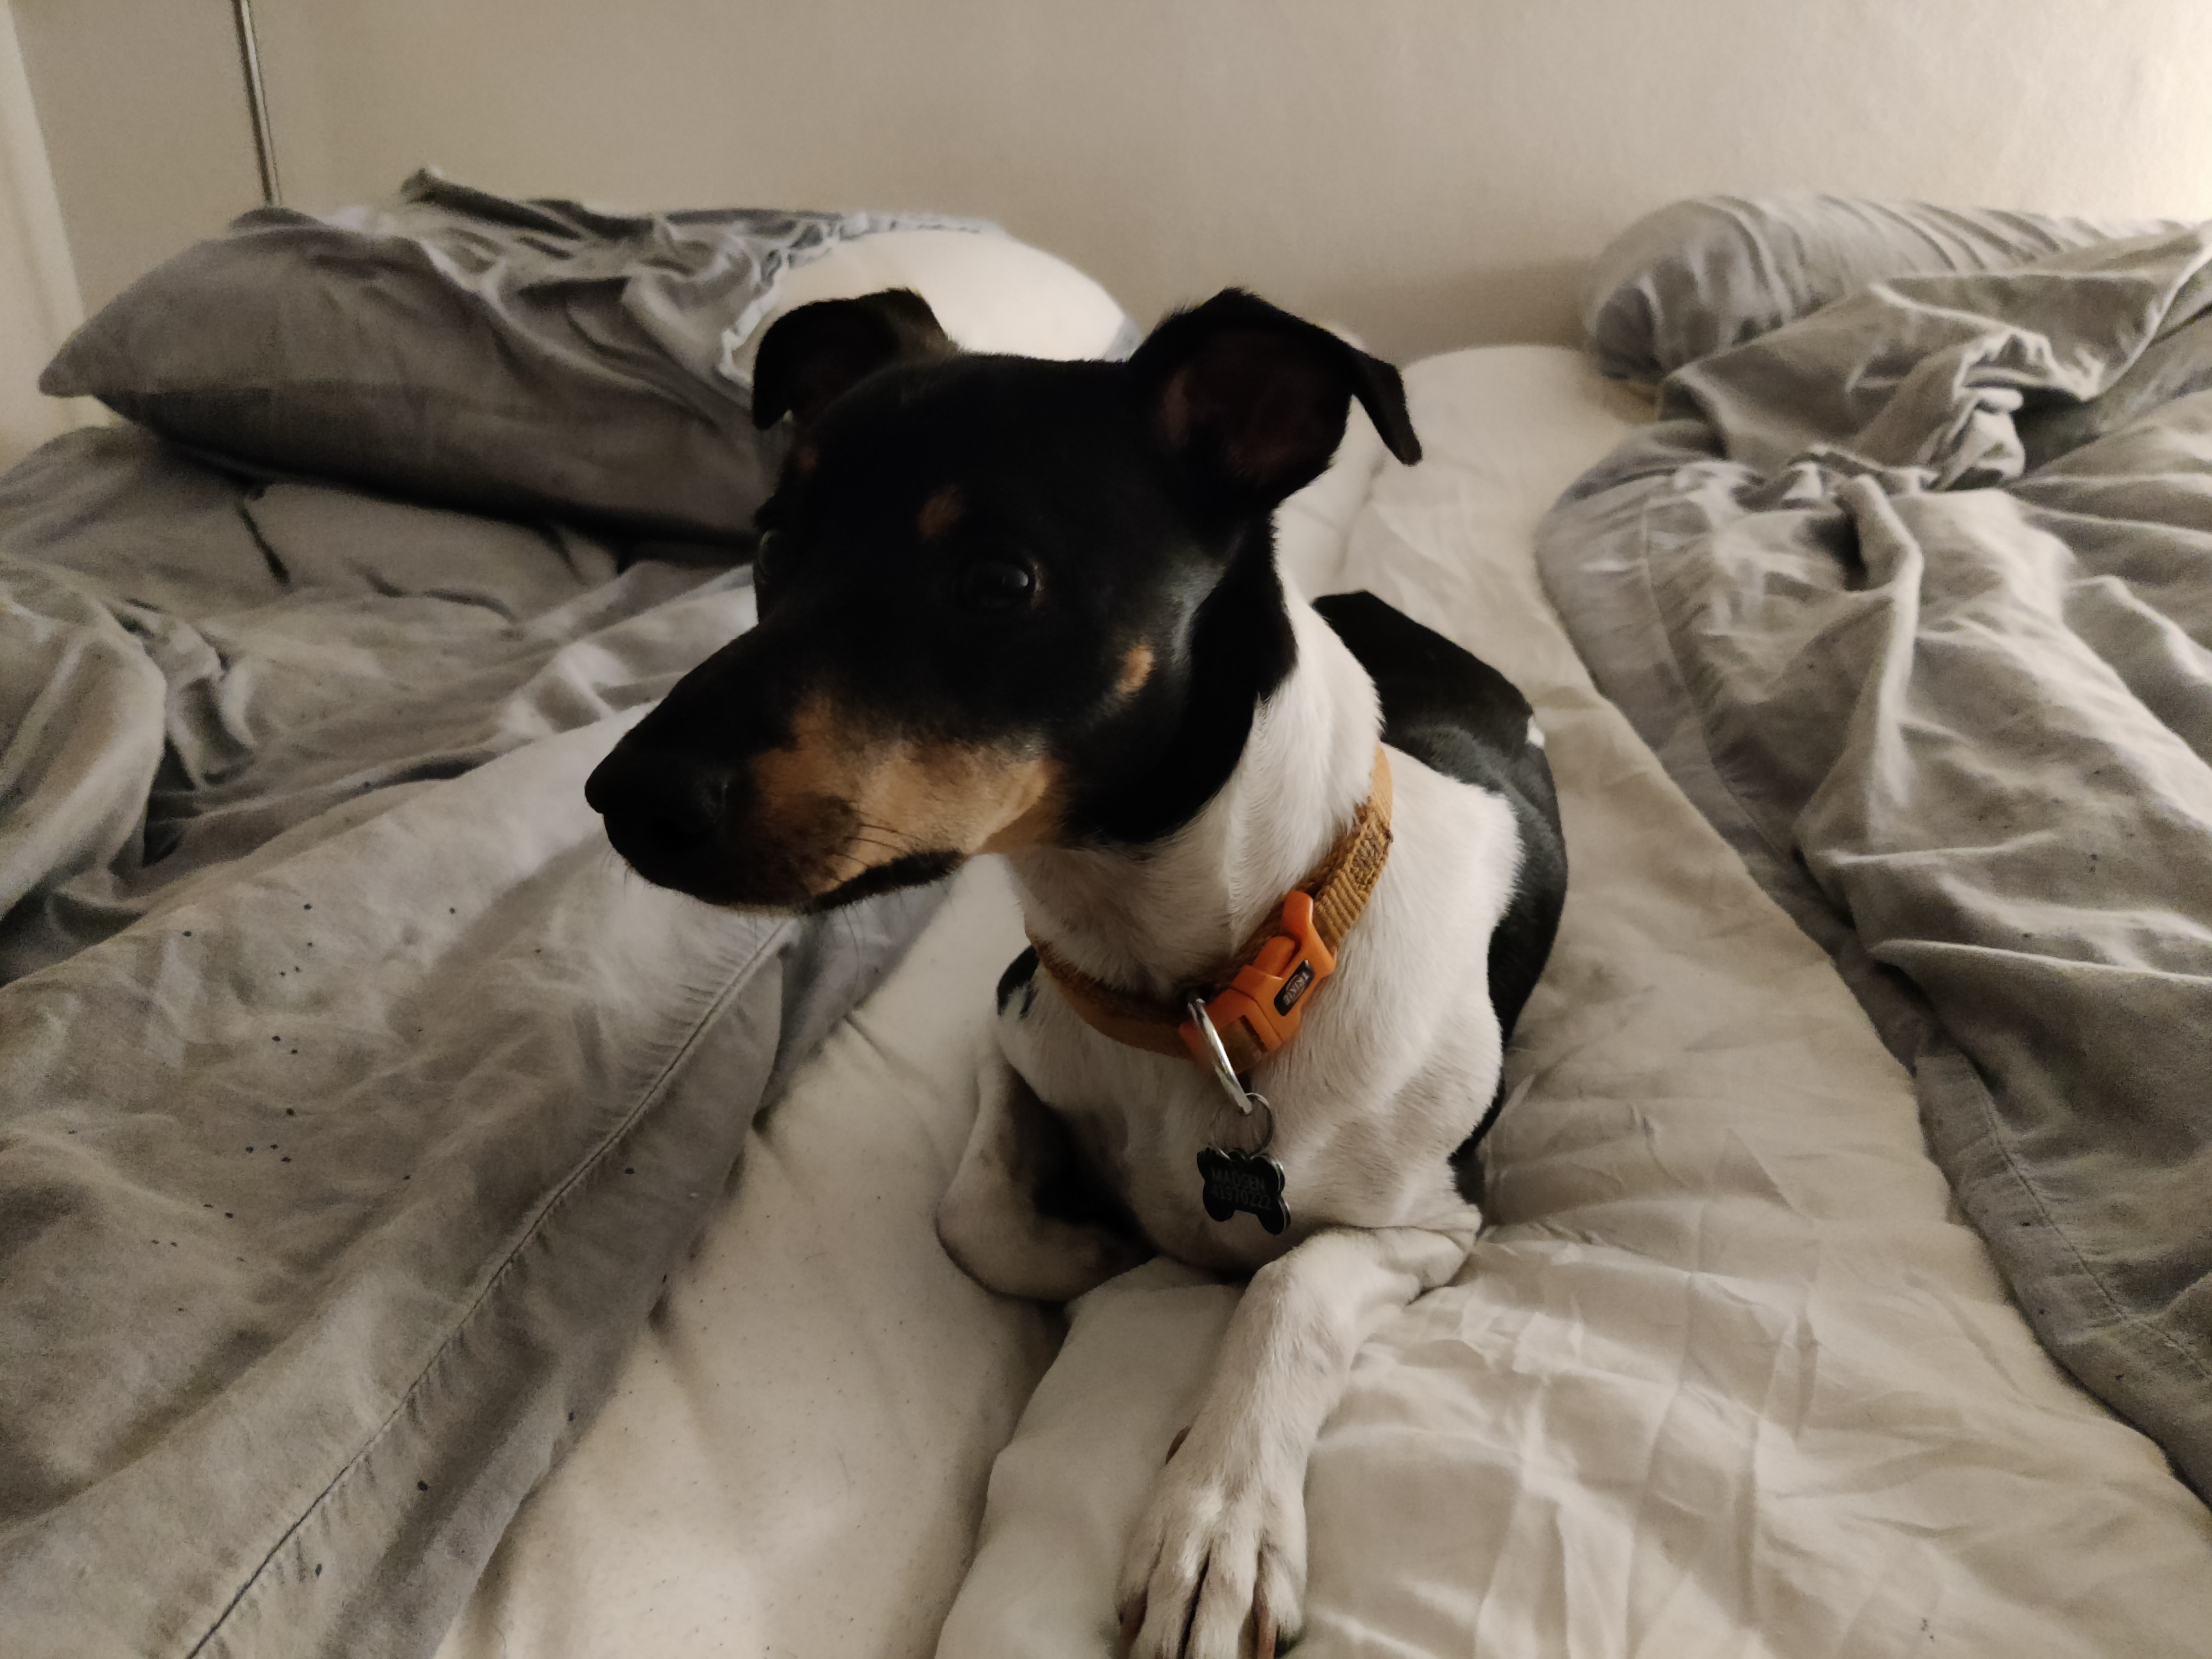Dog: (573, 256, 1587, 1659)
